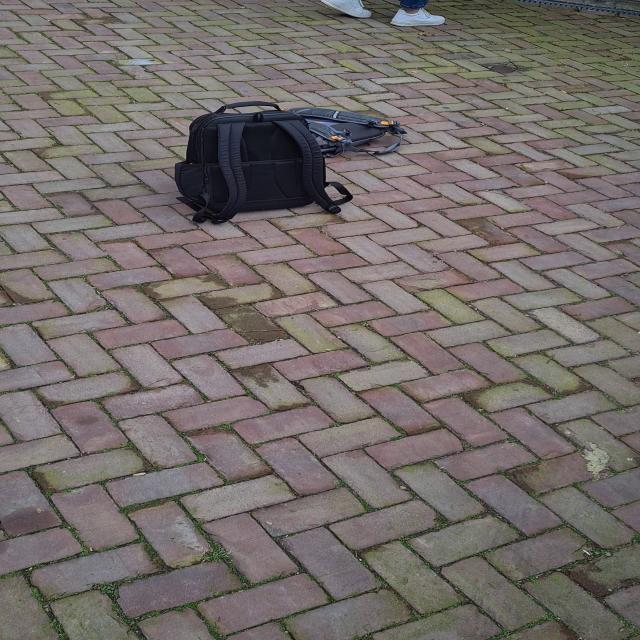backpack: (164, 96, 335, 224), (288, 108, 410, 160)
